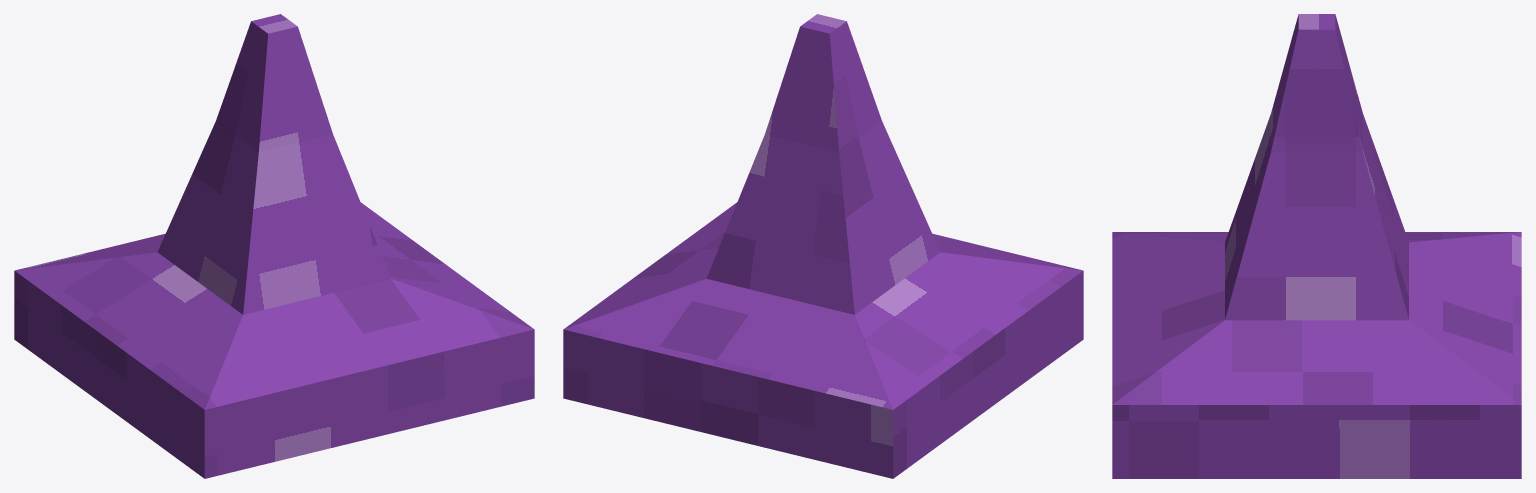
The model's file is mirrorblock.obj.
3 renders of one model, left to right at view 1: azimuth 30°, elevation 25°; view 2: azimuth 150°, elevation 25°; view 3: azimuth 270°, elevation 25°, orthographic. The views are drawn at different scales.
Parts seen in each view (by area): view 1: Cube.002_Cube; view 2: Cube.002_Cube; view 3: Cube.002_Cube.
Boxes of the visible parts, x1,y1,x2,y2 form: Cube.002_Cube: (14,14,534,478); Cube.002_Cube: (563,14,1083,478); Cube.002_Cube: (1112,14,1521,478).
Bounding box in the file's own units: 1 × 1 × 1.
